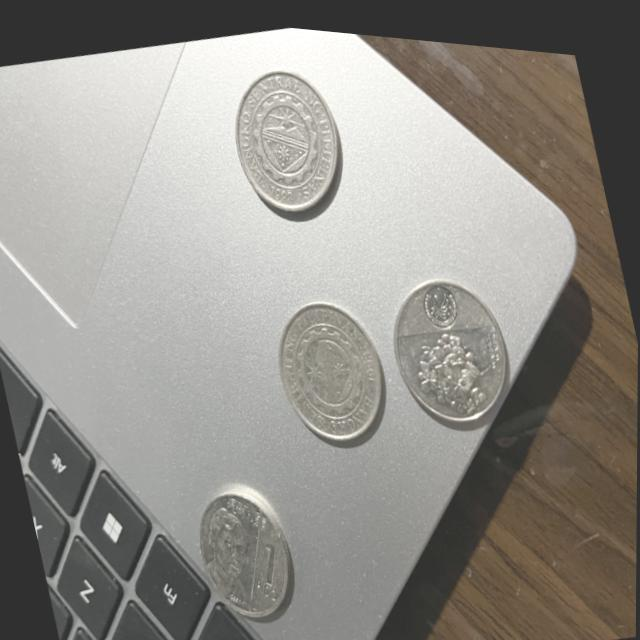1_New_Back: (397, 308, 508, 424)
1_New_Front: (244, 530, 294, 603)
1_Old_Back: (220, 53, 351, 218), (266, 283, 390, 445)
